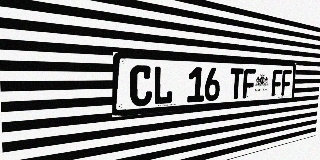1: (187, 67, 205, 103)
6: (204, 67, 221, 101)
C: (129, 65, 153, 107)
F: (242, 69, 256, 99), (271, 69, 282, 96), (281, 70, 292, 96)
L: (153, 66, 174, 105)
T: (229, 68, 243, 100)
